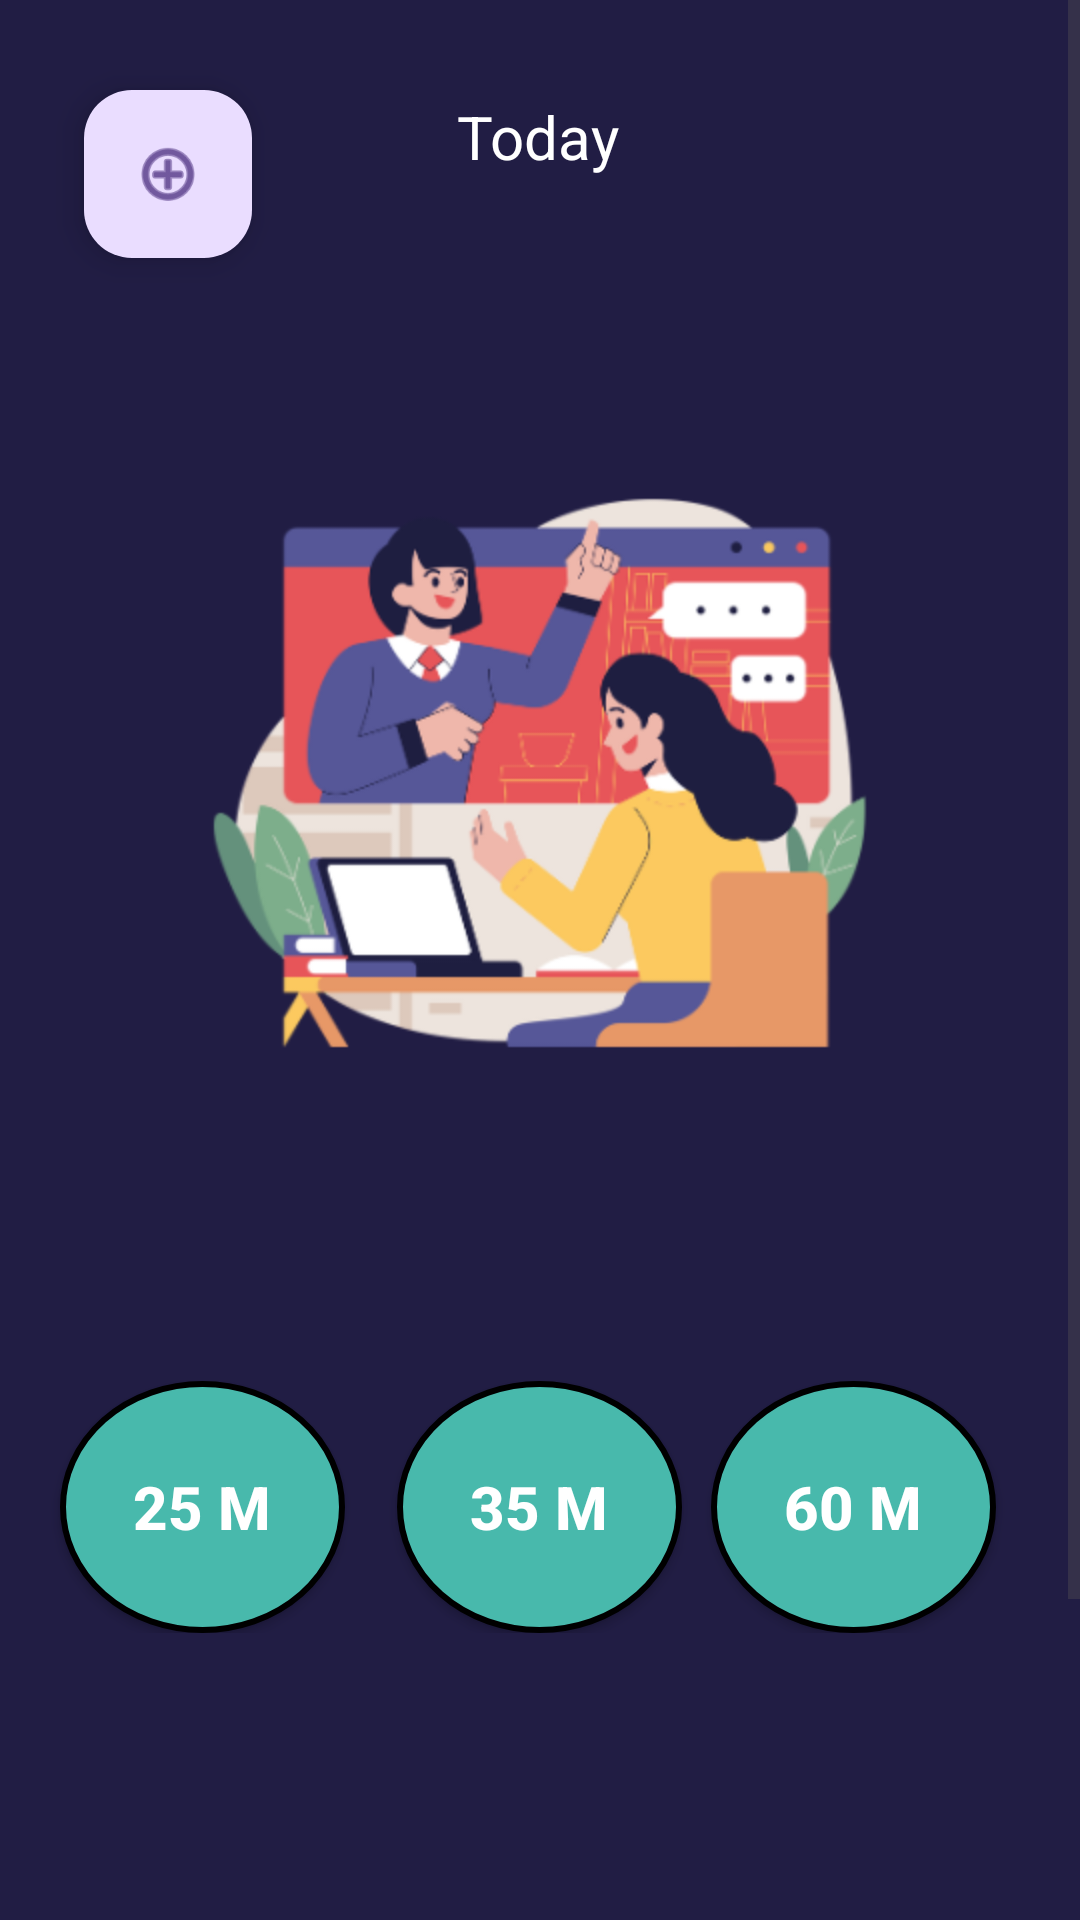

Icon click points for this 1080*1920 phone screenshot, format [x,y]:
add: [168,174]
